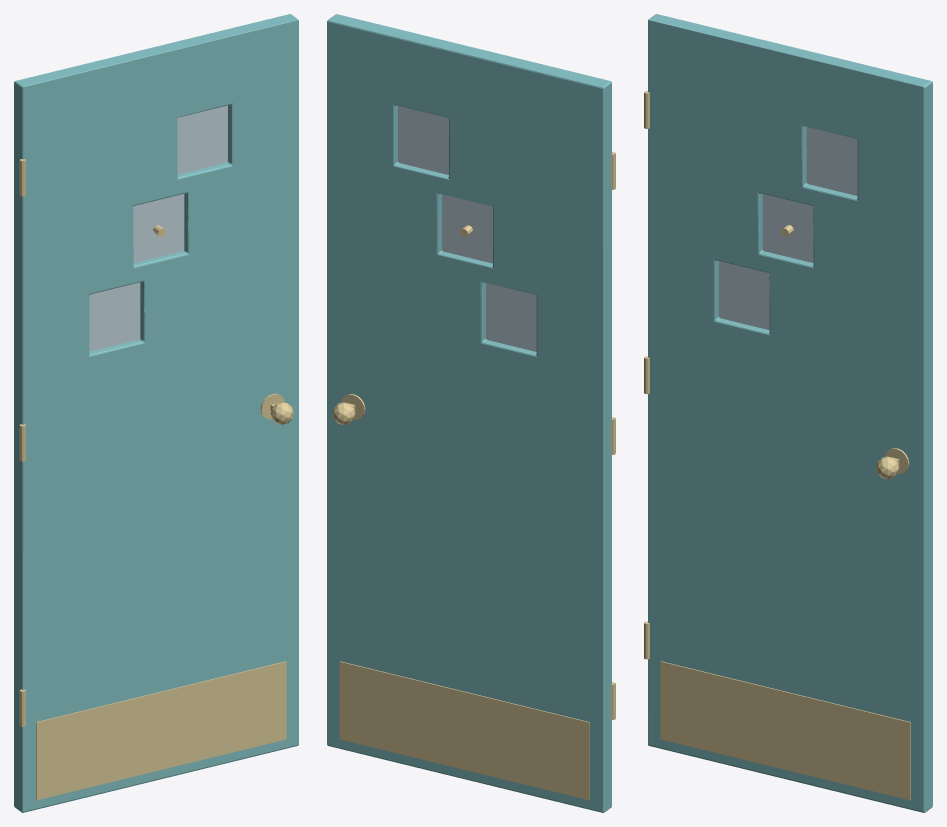
The model's file is door_unit_t.glb.
3 views of the same model, side by side, from view 1: azimuth 30°, elevation 25°; view 2: azimuth 150°, elevation 25°; view 3: azimuth 330°, elevation 25° (orthographic).
Parts seen in each view (by area): view 1: door_unit_t_door_t, door_unit_t_brass, door_unit_t_glass; view 2: door_unit_t_door_t, door_unit_t_brass, door_unit_t_glass; view 3: door_unit_t_door_t, door_unit_t_brass, door_unit_t_glass.
Boxes of the visible parts, x1,y1,x2,y2 form: door_unit_t_door_t: (14,14,298,812); door_unit_t_brass: (19,159,293,800); door_unit_t_glass: (89,105,227,351); door_unit_t_door_t: (327,14,611,812); door_unit_t_brass: (332,152,615,800); door_unit_t_glass: (398,105,536,351); door_unit_t_door_t: (648,14,932,812); door_unit_t_brass: (644,91,910,800); door_unit_t_glass: (719,127,857,330).
Bounding box in the file's own units: 0.828 × 2.06 × 0.205.
